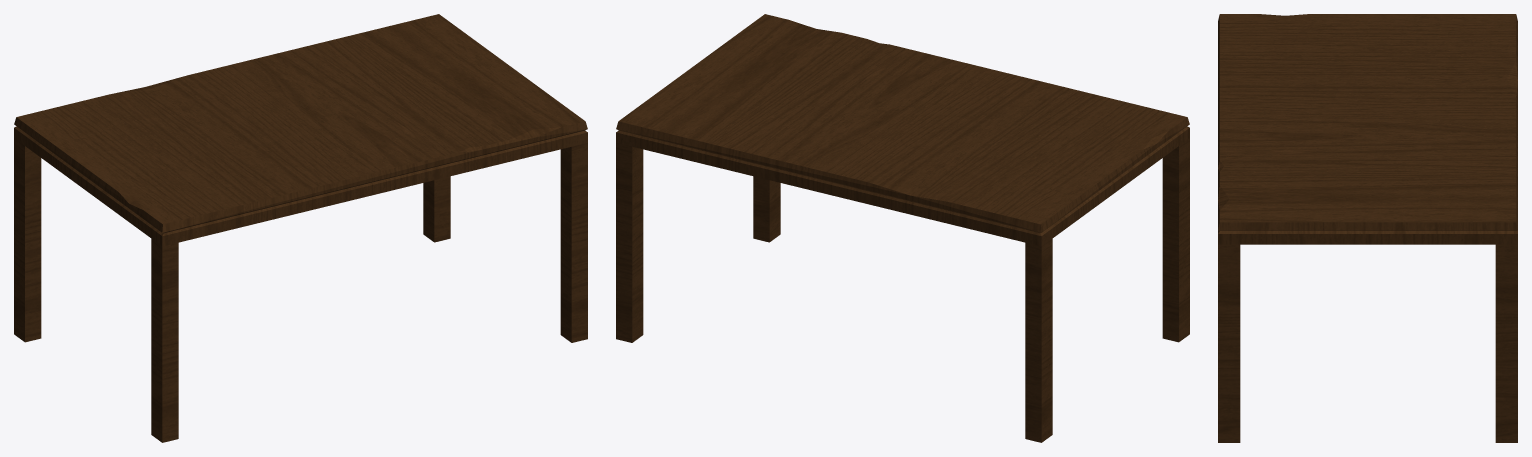
File: SM_Prop_DiningTable_02.fbx
3 renders of one model, left to right at view 1: azimuth 30°, elevation 25°; view 2: azimuth 150°, elevation 25°; view 3: azimuth 270°, elevation 25°, orthographic.
Parts seen in each view (by area): view 1: SM_Prop_DiningTable_02; view 2: SM_Prop_DiningTable_02; view 3: SM_Prop_DiningTable_02.
Boxes of the visible parts, x1,y1,x2,y2 form: SM_Prop_DiningTable_02: [14, 14, 587, 442]; SM_Prop_DiningTable_02: [616, 14, 1189, 442]; SM_Prop_DiningTable_02: [1218, 14, 1517, 442].
Bounding box in the file's own units: 210 × 103 × 127.
